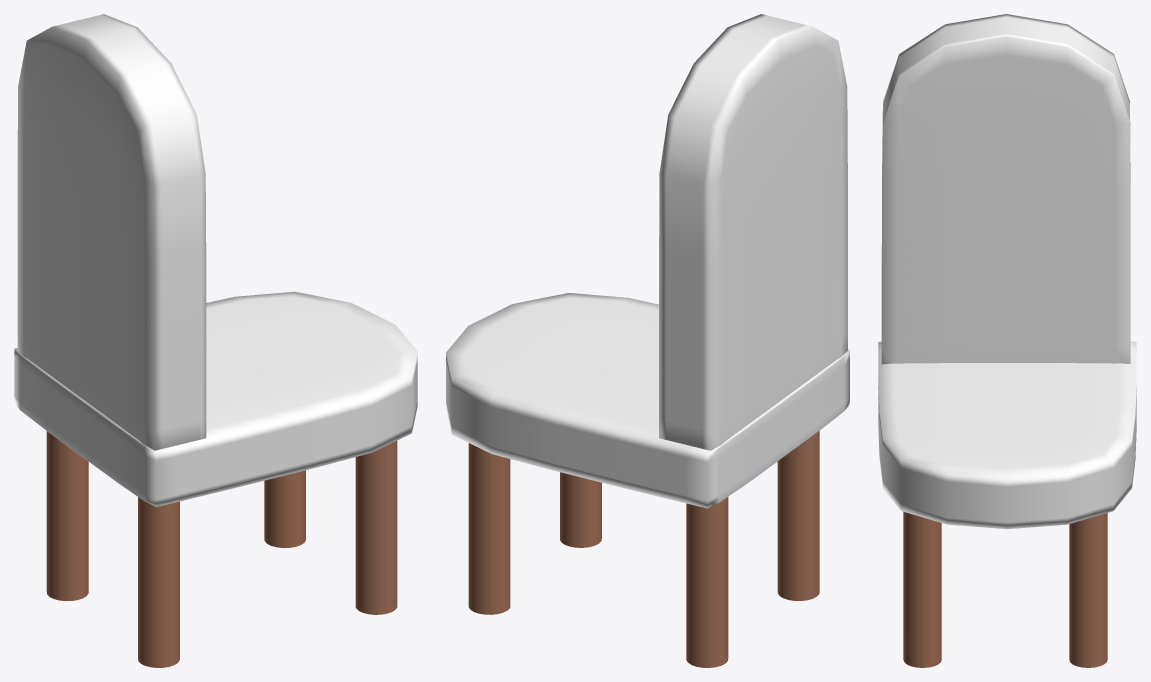
Rendered from Silla.fbx.
3 views of the same model, side by side, from view 1: azimuth 30°, elevation 25°; view 2: azimuth 150°, elevation 25°; view 3: azimuth 270°, elevation 25° (orthographic). The views are drawn at different scales.
Visible parts, largest first — view 1: Silla; view 2: Silla; view 3: Silla.
Boxes of the visible parts, bbox=[...] form: Silla: bbox=[14, 14, 417, 667]; Silla: bbox=[446, 14, 849, 667]; Silla: bbox=[878, 14, 1136, 667].
Bounding box in the file's own units: 1.31 × 2.35 × 1.02.
